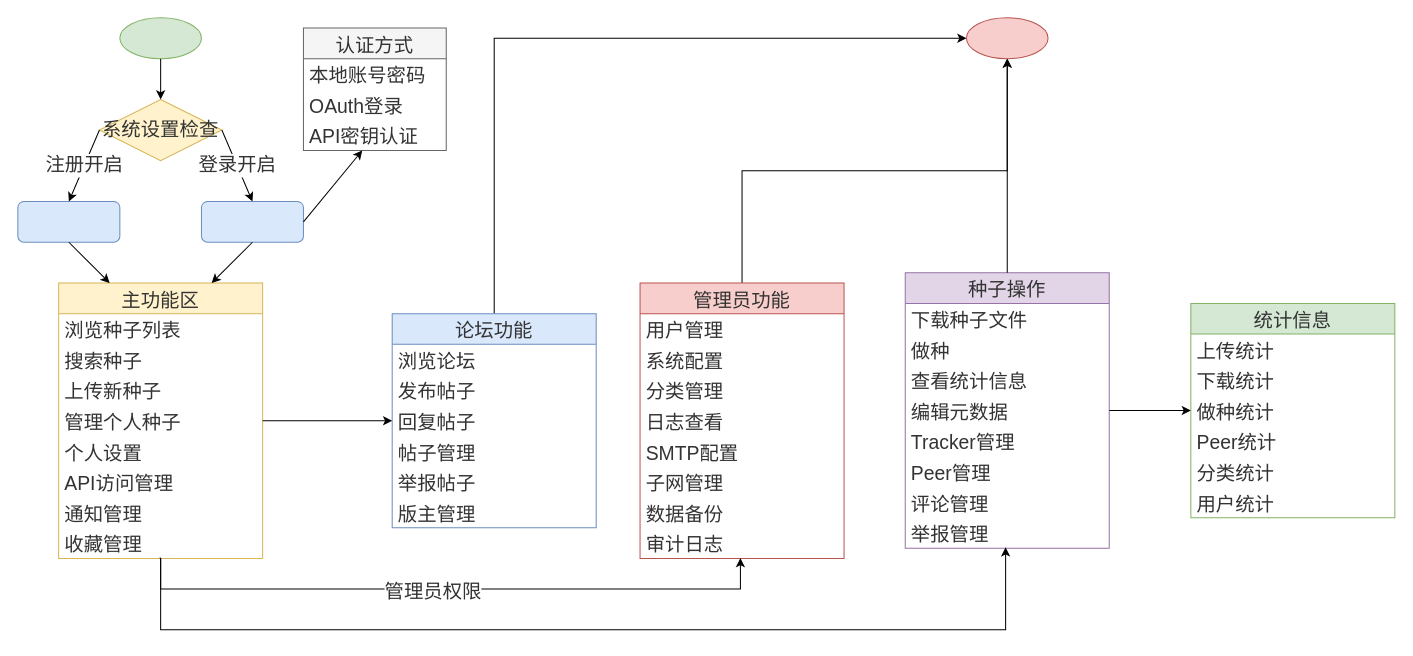
Some shapes in this 1413 by 656 pixel diagram are drawn without their labels. The centre of each missing label's shape, as x and y in pixels:
开始: point (160, 38)
用户注册: point (68, 221)
用户登录: point (251, 221)
结束: point (1006, 38)
